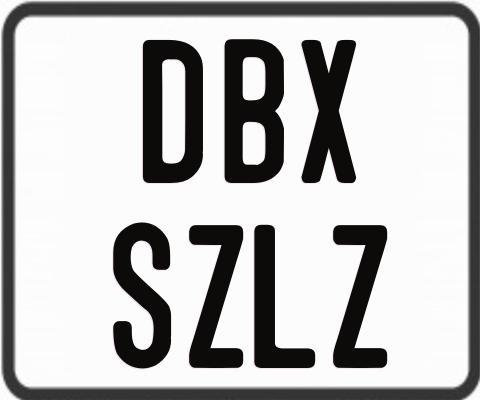B: (223, 36, 286, 180)
D: (142, 38, 208, 186)
L: (251, 223, 315, 368)
S: (113, 222, 171, 374)
X: (300, 38, 360, 181)
Z: (331, 223, 391, 371), (188, 224, 247, 373)
